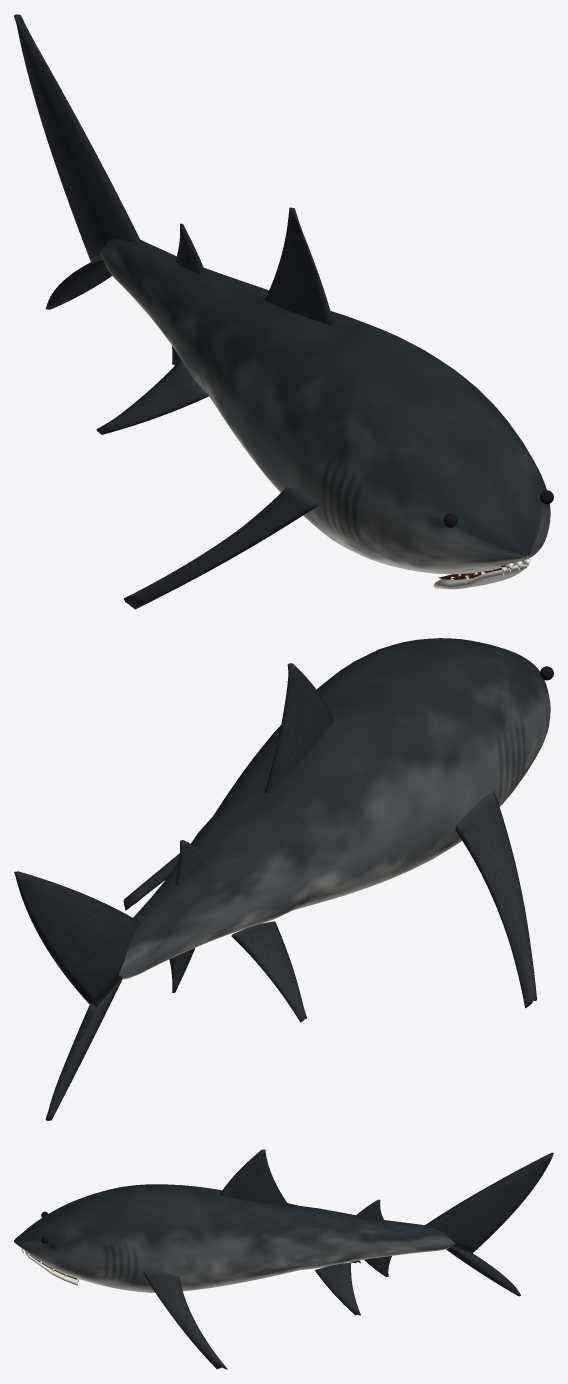
File: predator_v3_phase2.glb
3 views of the same model, one above another, from view 1: azimuth 30°, elevation 25°; view 2: azimuth 150°, elevation 25°; view 3: azimuth 270°, elevation 25° (orthographic). The views are drawn at different scales.
Visible parts, largest first — view 1: predator_reef_shark; view 2: predator_reef_shark; view 3: predator_reef_shark.
Part boxes in pixels (x1,y1,x2,y2): predator_reef_shark: [14, 14, 553, 609]; predator_reef_shark: [14, 638, 553, 1120]; predator_reef_shark: [14, 1149, 553, 1369].
Size of the model in its own units: 2.43 by 1.81 by 5.24.
4 materials, 1 textured.
